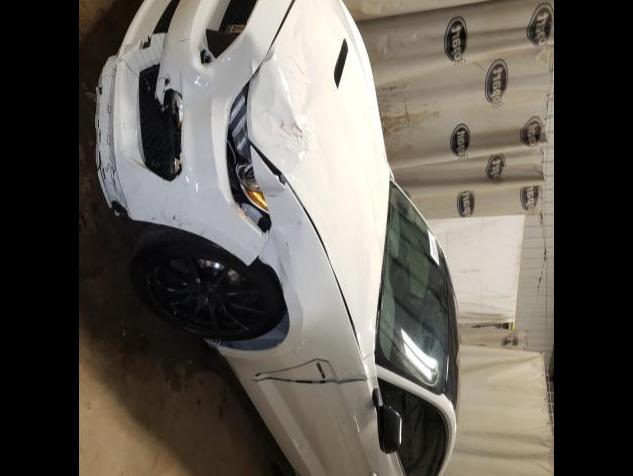Broken part: (94, 0, 298, 268), (292, 190, 362, 352), (227, 78, 272, 230), (240, 376, 365, 384)
Dent: (248, 32, 314, 222), (250, 144, 302, 328)
Missing part: (138, 64, 180, 178), (200, 0, 257, 62), (255, 356, 340, 384)
Scratch: (98, 68, 134, 220), (264, 94, 308, 164), (116, 34, 154, 78), (276, 232, 296, 268), (170, 36, 190, 46)
